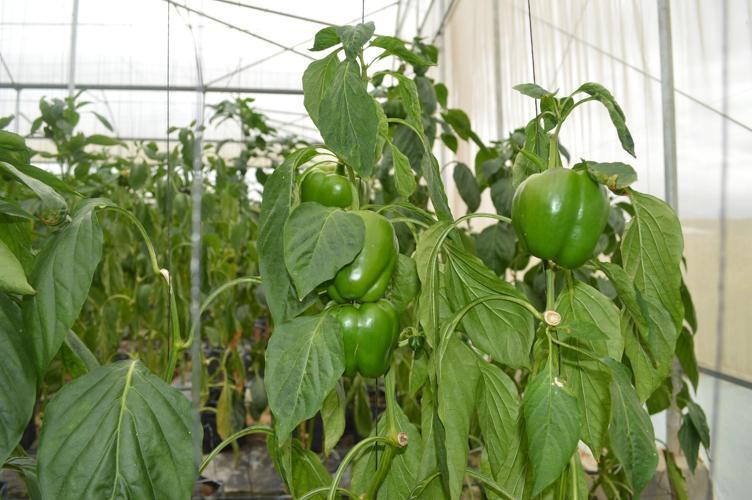BellPepper: (503, 166, 610, 271), (316, 209, 399, 304), (318, 301, 398, 378), (300, 164, 367, 210)
